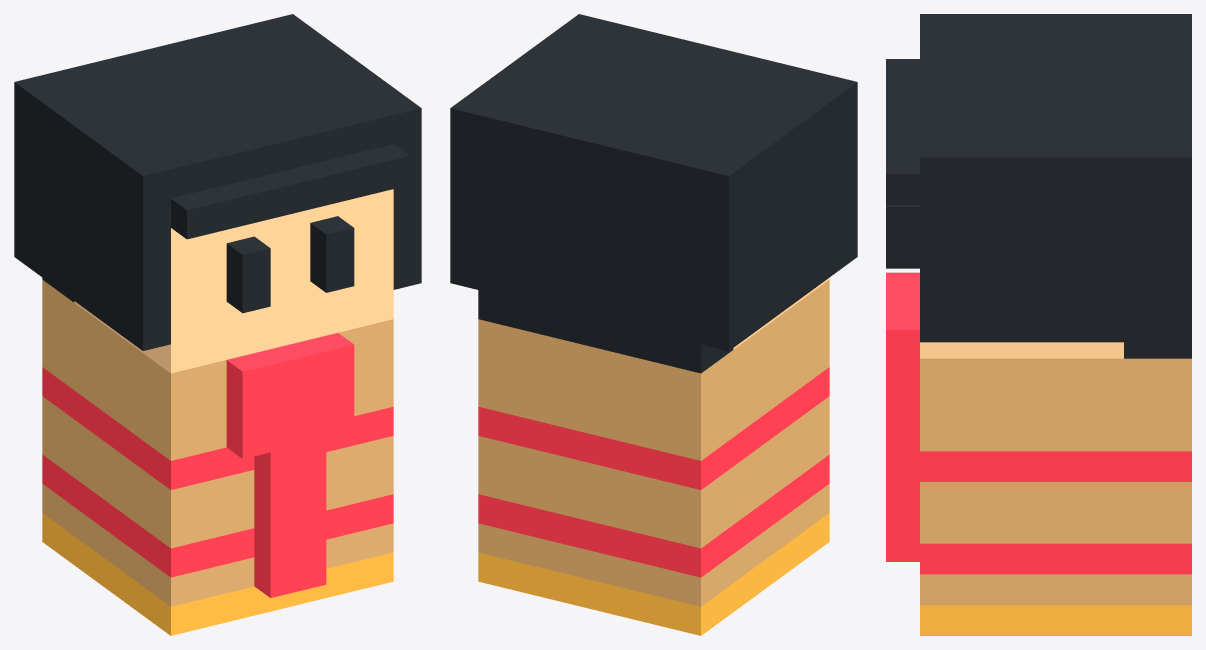
File: voxel-kokeshi.glb
The picture shows the model from 3 angles, left to right: view 1: azimuth 30°, elevation 25°; view 2: azimuth 150°, elevation 25°; view 3: azimuth 270°, elevation 25°; orthographic projection. The views are drawn at different scales.
Visible parts, largest first — view 1: kokeshi; view 2: kokeshi; view 3: kokeshi.
Boxes of the visible parts, left/top/right/bottom form: kokeshi: left=14, top=14, right=421, bottom=635; kokeshi: left=450, top=14, right=857, bottom=635; kokeshi: left=886, top=14, right=1191, bottom=635.
Size of the model in its own units: 1.5 by 2.4 by 1.35.
